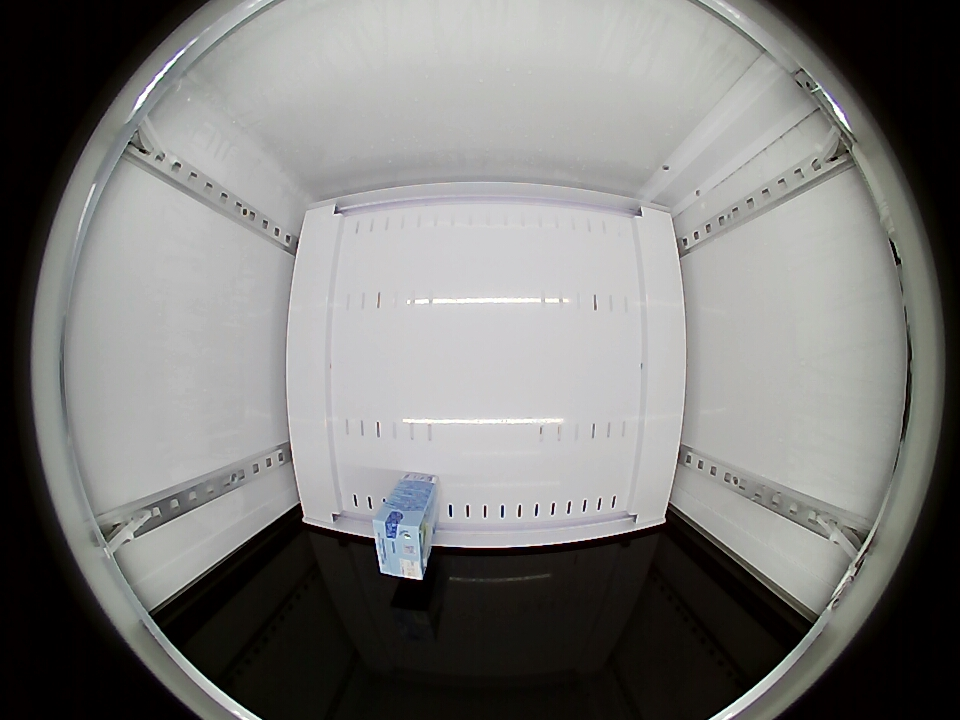weitanaiditang: (374, 507, 431, 580)
